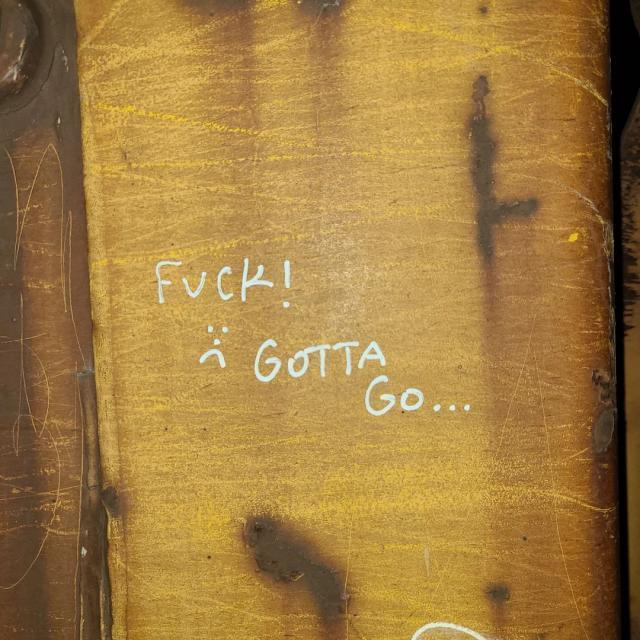nonspitting: (155, 259, 472, 419)
